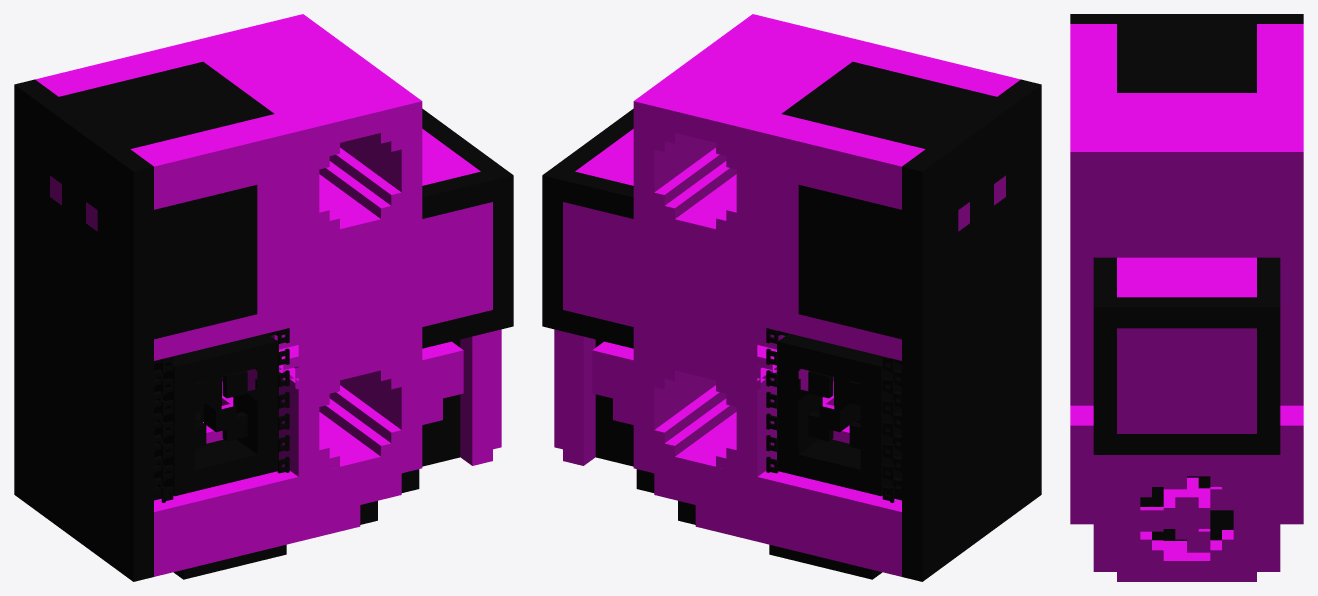
The model's file is tool.glb.
3 renders of one model, left to right at view 1: azimuth 30°, elevation 25°; view 2: azimuth 150°, elevation 25°; view 3: azimuth 270°, elevation 25°, orthographic. The views are drawn at different scales.
Visible parts, largest first — view 1: node_7, node_9, node_3, node_10, node_1, node_11, node_6, node_4, node_8; view 2: node_7, node_9, node_3, node_10, node_1, node_11, node_6, node_4, node_8; view 3: node_3, node_1, node_7, node_6, node_9, node_2, node_4, node_5.
Part boxes in pixels (x1,y1,x2,y2): node_7: [14, 44, 298, 516]; node_9: [50, 24, 380, 502]; node_3: [262, 14, 513, 456]; node_10: [14, 430, 298, 581]; node_1: [422, 129, 492, 418]; node_11: [154, 412, 380, 541]; node_6: [381, 404, 501, 499]; node_4: [360, 414, 460, 524]; node_8: [195, 369, 257, 449]; node_7: [757, 44, 1041, 516]; node_9: [675, 24, 1005, 502]; node_3: [542, 14, 793, 456]; node_10: [757, 430, 1041, 581]; node_1: [563, 129, 633, 418]; node_11: [675, 412, 901, 541]; node_6: [554, 404, 674, 499]; node_4: [595, 414, 695, 524]; node_8: [798, 369, 860, 449]; node_3: [1070, 132, 1303, 539]; node_1: [1117, 257, 1256, 519]; node_7: [1070, 14, 1303, 92]; node_6: [1070, 490, 1303, 581]; node_9: [1070, 93, 1303, 132]; node_2: [1140, 476, 1233, 531]; node_4: [1152, 520, 1233, 540]; node_5: [1187, 529, 1210, 552].
Bounding box in the file's own units: 19 × 20 × 10.
3 materials, 3 textured.
